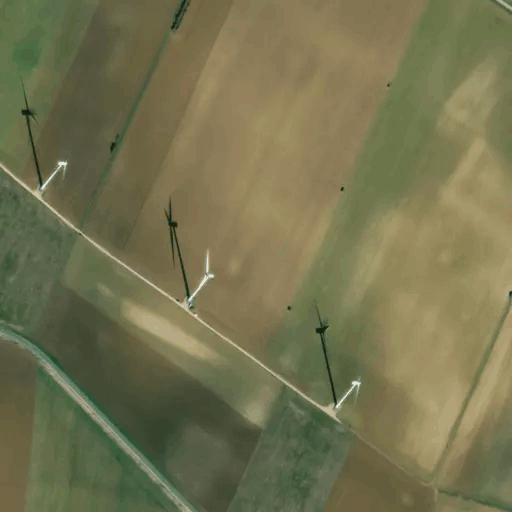wt: (152, 194, 222, 323), (9, 74, 73, 201), (306, 299, 368, 424)
